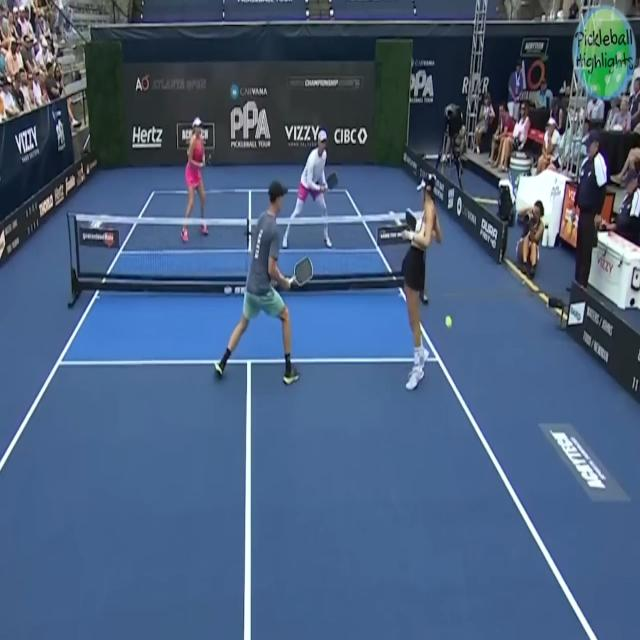Pickleball: (444, 312, 453, 331)
